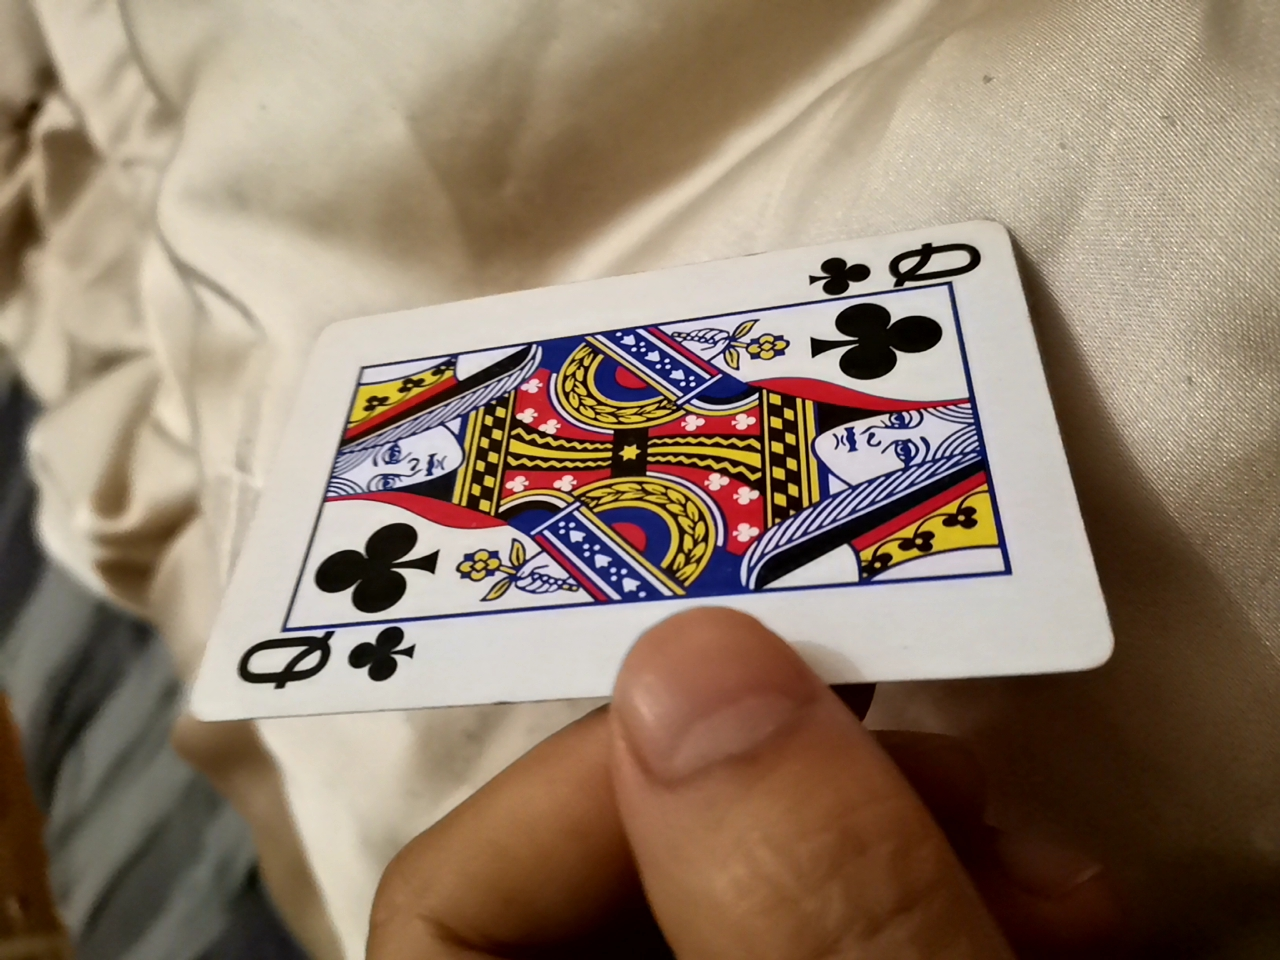mh q: (246, 229, 1089, 716)
